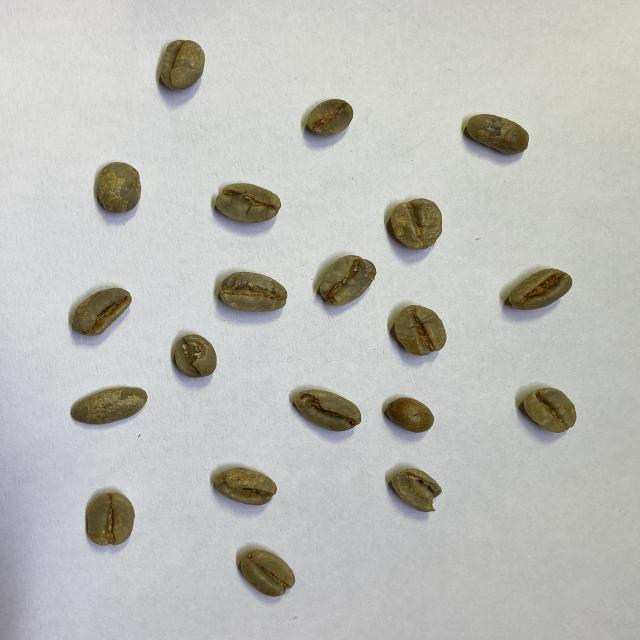bad: (290, 388, 363, 433), (156, 38, 208, 93), (504, 268, 573, 308), (392, 466, 444, 514), (172, 333, 218, 377)
good: (316, 252, 378, 306), (71, 286, 131, 337), (70, 386, 148, 425), (387, 197, 444, 250), (214, 183, 282, 227), (84, 490, 136, 547), (216, 272, 288, 313), (466, 112, 529, 157), (394, 304, 448, 356), (239, 549, 297, 597), (214, 466, 276, 509), (523, 386, 578, 434), (94, 161, 142, 215), (305, 97, 356, 137), (386, 397, 436, 434)
